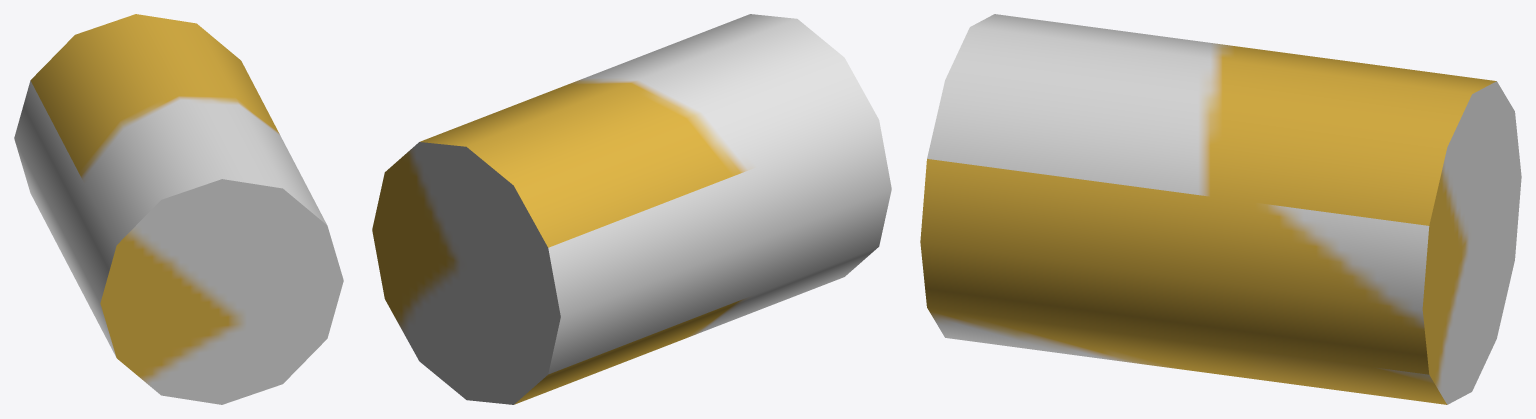
3 views of the same model, side by side, from view 1: azimuth 30°, elevation 25°; view 2: azimuth 150°, elevation 25°; view 3: azimuth 270°, elevation 25° (orthographic). The views are drawn at different scales.
Parts seen in each view (by area): view 1: link_base.3obj.003; view 2: link_base.3obj.003; view 3: link_base.3obj.003.
Part boxes in pixels (bbox=[...]): link_base.3obj.003: bbox=[14, 14, 343, 404]; link_base.3obj.003: bbox=[372, 14, 891, 404]; link_base.3obj.003: bbox=[920, 14, 1521, 404].
Size of the model in its own units: 0.0761 by 0.053 by 0.097.
Materials: 1 (1 with a texture image).
